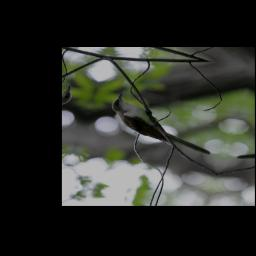Cuckoo: (97, 91, 229, 157)
